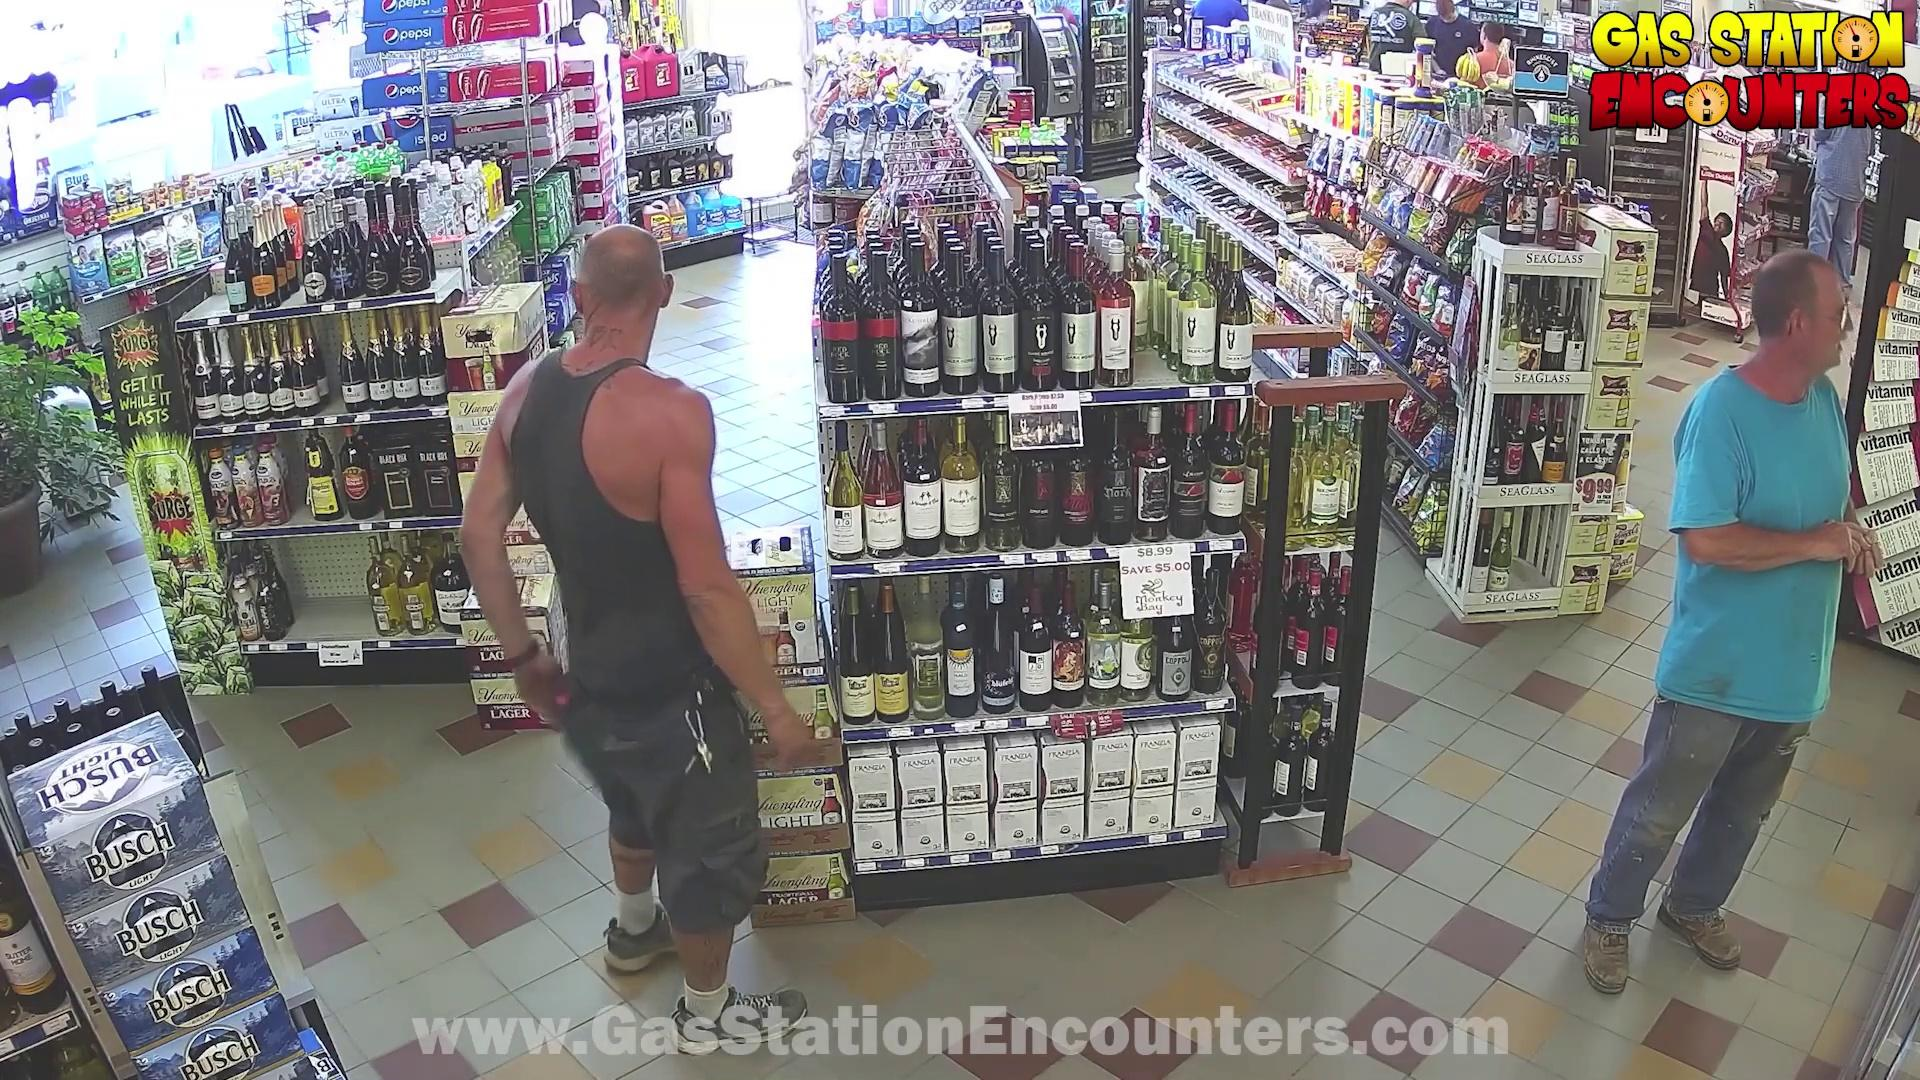Regular: (450, 222, 873, 1080), (1561, 215, 1920, 976)
